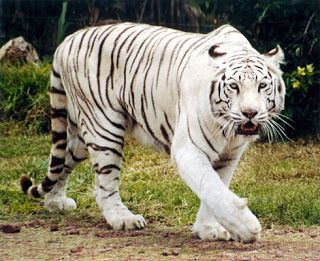Tigrew: (30, 18, 285, 251)
